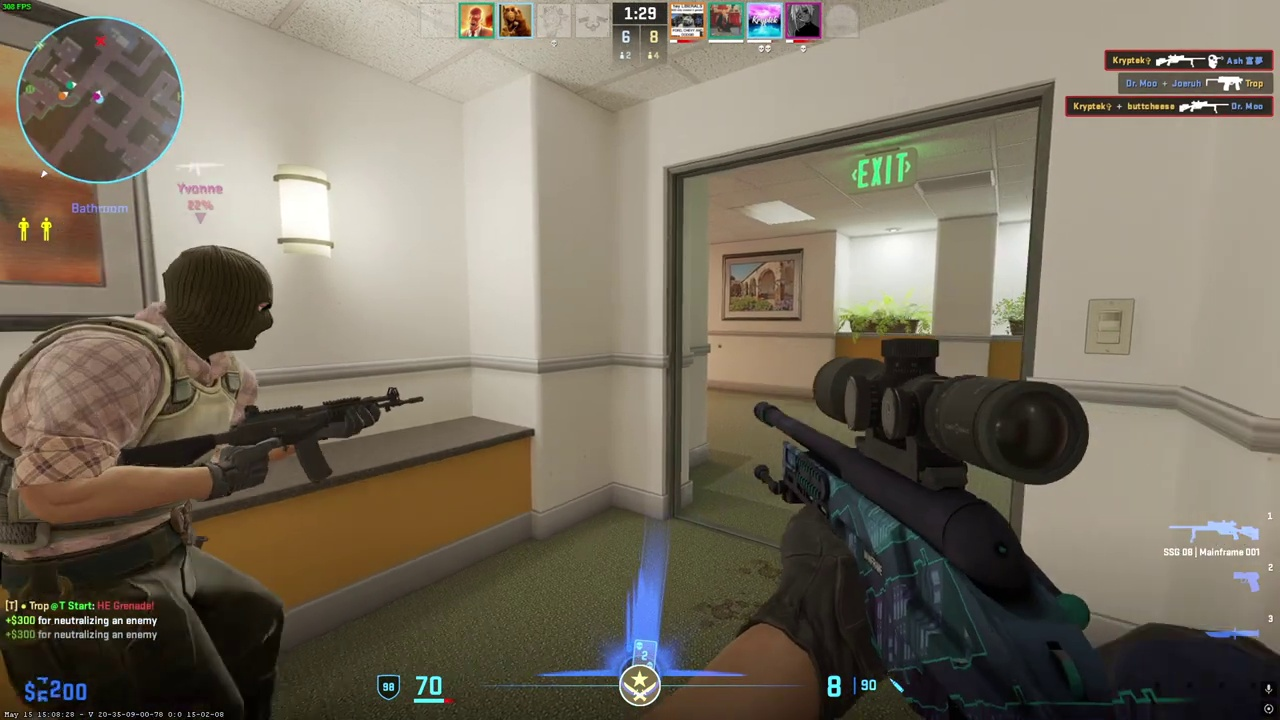Terrorist: (2, 242, 305, 720)
